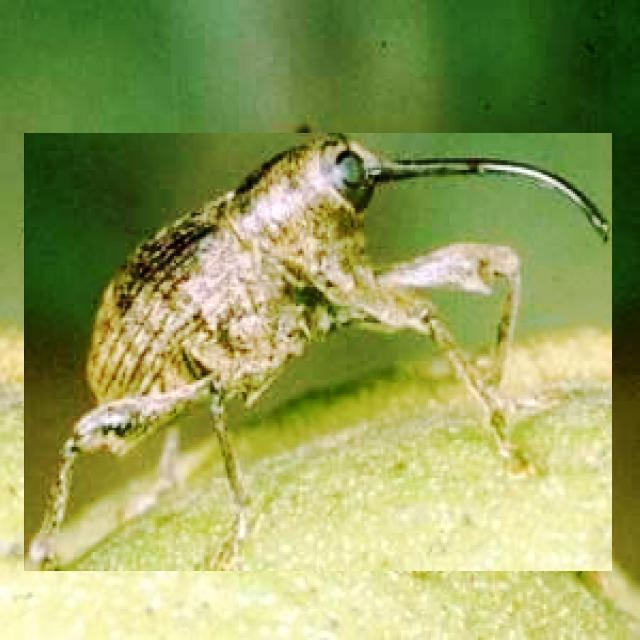rice-bug: (25, 134, 612, 570)
